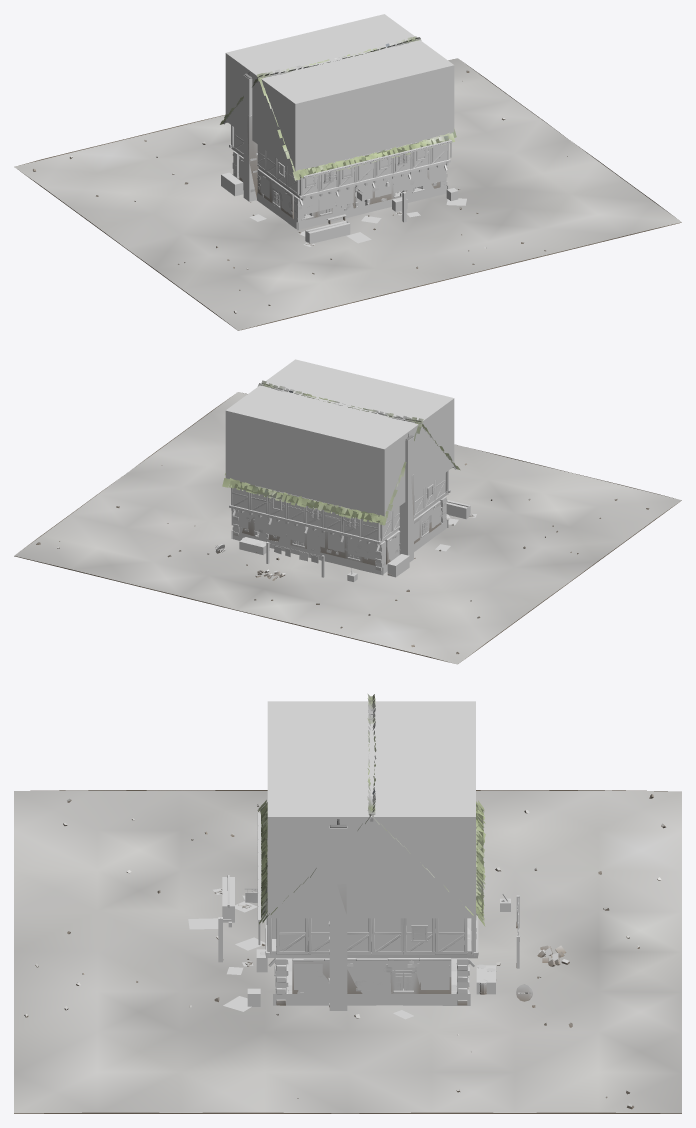
Rendered from bld_inn_salted_kettle_shared.glb.
3 renders of one model, top to bottom at view 1: azimuth 30°, elevation 25°; view 2: azimuth 150°, elevation 25°; view 3: azimuth 270°, elevation 25°, orthographic. The views are drawn at different scales.
Parts seen in each view (by area): view 1: ground_mud, col_roof, decals_inn, roof_slate_shingles, col_chimney, jetty_joists, col_trough, chimney; view 2: ground_mud, col_roof, decals_inn, roof_slate_shingles, col_chimney, jetty_joists, yard_props, roof_slate_sheathing; view 3: ground_mud, col_roof, decals_inn, col_chimney.001, roof_slate_shingles, jetty_joists, yard_props, roof_slate_sheathing, col_wall.041, col_wall.043, col_wall.038, col_wall.040 (+1 smaller).
Boxes of the visible parts, x1,y1,x2,y2 form: ground_mud: (14, 58, 681, 330); col_roof: (225, 14, 454, 171); decals_inn: (232, 141, 466, 246); roof_slate_shingles: (220, 36, 454, 180); col_chimney: (243, 75, 256, 201); jetty_joists: (229, 144, 450, 205); col_trough: (305, 220, 350, 243); chimney: (244, 72, 258, 197); ground_mud: (14, 392, 681, 664); col_roof: (225, 359, 454, 516); decals_inn: (231, 505, 476, 575); roof_slate_shingles: (222, 380, 460, 525); col_chimney: (398, 437, 413, 561); jetty_joists: (229, 489, 450, 550); yard_props: (215, 501, 468, 580); roof_slate_sheathing: (234, 428, 456, 522); ground_mud: (14, 790, 681, 1113); col_roof: (267, 701, 475, 918); decals_inn: (188, 888, 470, 1019); col_chimney.001: (329, 826, 347, 1010); roof_slate_shingles: (258, 693, 485, 926); jetty_joists: (265, 915, 478, 966); yard_props: (220, 875, 569, 1001); roof_slate_sheathing: (260, 804, 483, 916); col_wall.041: (372, 918, 403, 954); col_wall.043: (438, 918, 464, 951); col_wall.038: (276, 918, 308, 951); col_wall.040: (347, 918, 371, 954).
Size of the model in its own units: 48 by 14 by 42.
